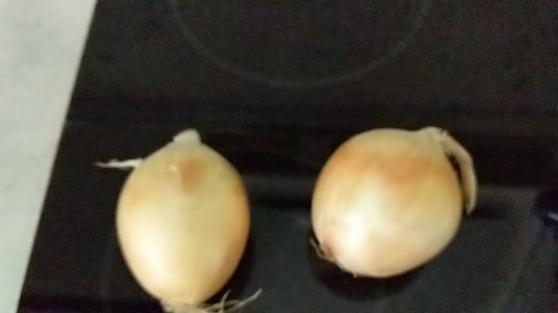onion: (306, 122, 481, 278), (115, 127, 253, 313)
